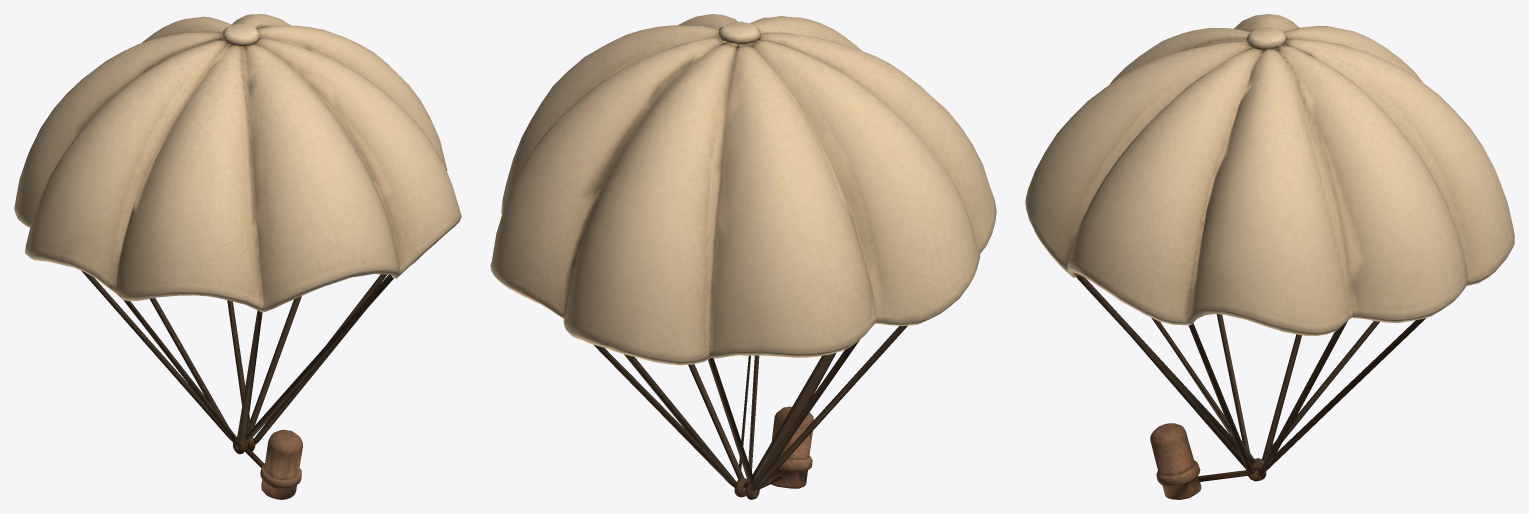
Rendered from Schirm_3D.glb.
The picture shows the model from 3 angles, left to right: view 1: azimuth 30°, elevation 25°; view 2: azimuth 150°, elevation 25°; view 3: azimuth 270°, elevation 25°; orthographic projection. The views are drawn at different scales.
Visible parts, largest first — view 1: tripo_node_b90dcc88-cde5-4bcc-8e7c-05beb7ab90f7; view 2: tripo_node_b90dcc88-cde5-4bcc-8e7c-05beb7ab90f7; view 3: tripo_node_b90dcc88-cde5-4bcc-8e7c-05beb7ab90f7.
Part boxes in pixels (x1,y1,x2,y2): tripo_node_b90dcc88-cde5-4bcc-8e7c-05beb7ab90f7: (14, 14, 461, 499); tripo_node_b90dcc88-cde5-4bcc-8e7c-05beb7ab90f7: (490, 14, 996, 499); tripo_node_b90dcc88-cde5-4bcc-8e7c-05beb7ab90f7: (1025, 14, 1514, 499).
Bounding box in the file's own units: 0.9629 × 0.998 × 0.9551.
1 material, 1 textured.
